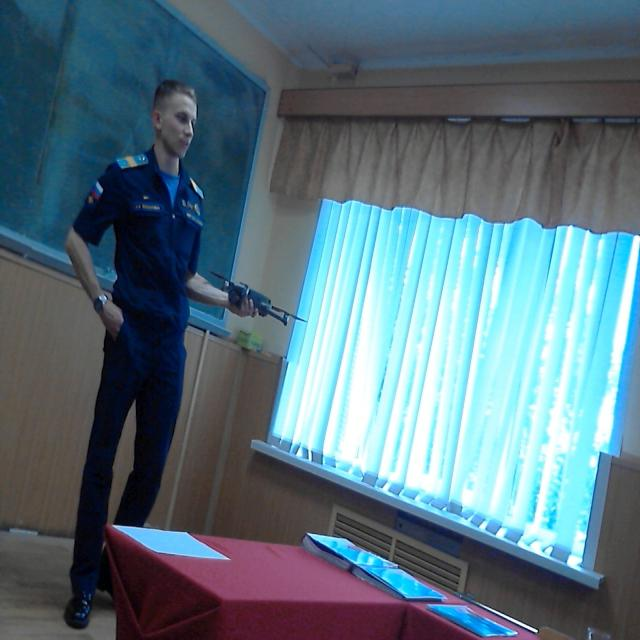drone: (183, 271, 313, 330)
